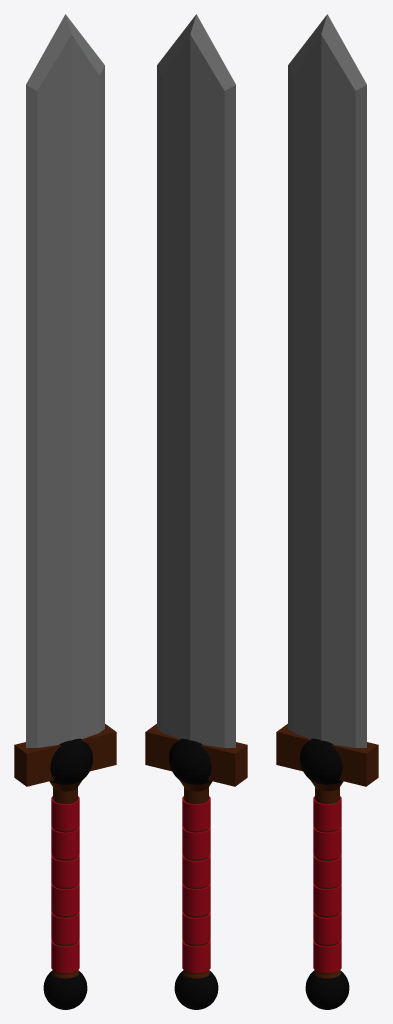
Rendered from axe.glb.
3 views of the same model, side by side, from view 1: azimuth 30°, elevation 25°; view 2: azimuth 150°, elevation 25°; view 3: azimuth 330°, elevation 25° (orthographic).
Visible parts, largest first — view 1: blade, Cube, Sphere.001, Sphere, Cylinder, Cylinder.006, Cylinder.002, Cylinder.005, Cylinder.001, Cylinder.004, Cylinder.003; view 2: blade, Cube, Sphere.001, Sphere, Cylinder, Cylinder.006, Cylinder.002, Cylinder.005, Cylinder.001, Cylinder.004, Cylinder.003; view 3: blade, Cube, Sphere.001, Sphere, Cylinder, Cylinder.006, Cylinder.002, Cylinder.005, Cylinder.001, Cylinder.004, Cylinder.003.
Part boxes in pixels (x1=…): blade: x1=26, y1=14, x2=104, y2=747; Cube: x1=14, y1=724, x2=116, y2=786; Sphere.001: x1=50, y1=738, x2=92, y2=784; Sphere: x1=43, y1=971, x2=87, y2=1009; Cylinder: x1=49, y1=780, x2=82, y2=978; Cylinder.006: x1=51, y1=796, x2=79, y2=830; Cylinder.002: x1=51, y1=911, x2=79, y2=944; Cylinder.005: x1=51, y1=826, x2=79, y2=859; Cylinder.001: x1=51, y1=940, x2=79, y2=973; Cylinder.004: x1=51, y1=855, x2=79, y2=887; Cylinder.003: x1=51, y1=883, x2=79, y2=915; blade: x1=157, y1=14, x2=235, y2=747; Cube: x1=145, y1=724, x2=247, y2=786; Sphere.001: x1=169, y1=738, x2=211, y2=784; Sphere: x1=174, y1=971, x2=218, y2=1009; Cylinder: x1=179, y1=780, x2=212, y2=978; Cylinder.006: x1=182, y1=796, x2=210, y2=830; Cylinder.002: x1=182, y1=911, x2=210, y2=944; Cylinder.005: x1=182, y1=826, x2=210, y2=859; Cylinder.001: x1=182, y1=940, x2=210, y2=973; Cylinder.004: x1=182, y1=855, x2=210, y2=887; Cylinder.003: x1=182, y1=883, x2=210, y2=915; blade: x1=288, y1=14, x2=366, y2=747; Cube: x1=276, y1=724, x2=378, y2=786; Sphere.001: x1=300, y1=738, x2=342, y2=784; Sphere: x1=305, y1=971, x2=349, y2=1009; Cylinder: x1=310, y1=780, x2=343, y2=978; Cylinder.006: x1=313, y1=796, x2=341, y2=830; Cylinder.002: x1=313, y1=911, x2=341, y2=944; Cylinder.005: x1=313, y1=826, x2=341, y2=859; Cylinder.001: x1=313, y1=940, x2=341, y2=973; Cylinder.004: x1=313, y1=855, x2=341, y2=887; Cylinder.003: x1=313, y1=883, x2=341, y2=915.
Bounding box in the file's own units: 0.1516 × 1.6 × 0.0812.
